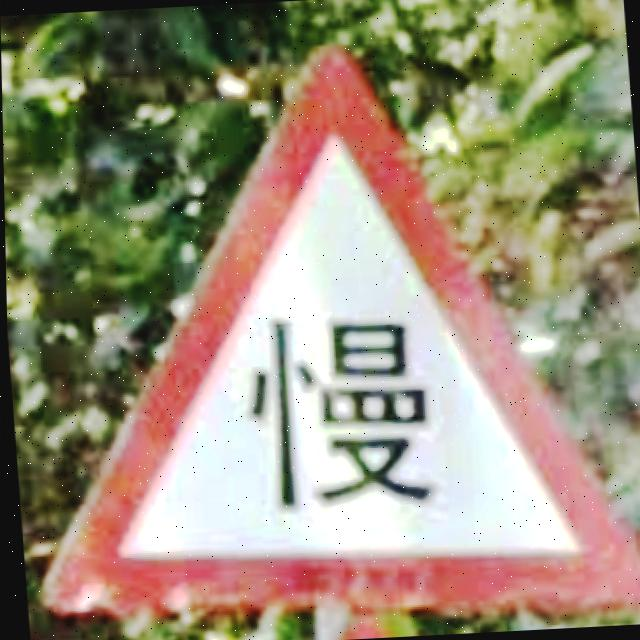slow: (43, 47, 640, 617)
